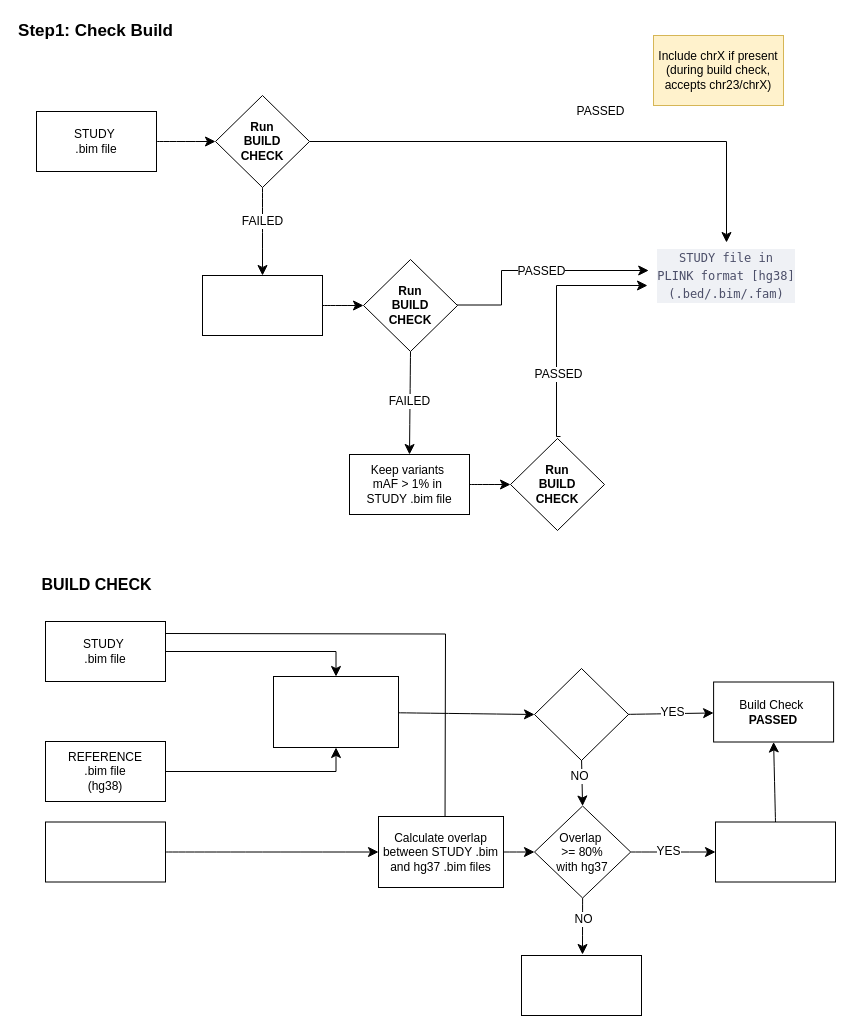
Image size: 855x1033. Some labels were removed from this diagram. The centre of each missing label's shape, as x and y in pixels:
Build Check FAILED: point 581,985
Calculate overlap between STUDY .bim and hg38 .bim files: point 335,712
Keep variants mAF > 5% in STUDY .bim file: point 262,305
Overlap >= 80% with hg38: point 581,714
Perform liftOver from hg37 to hg38: point 775,851
REFERENCE .bim file (hg37): point 105,851
